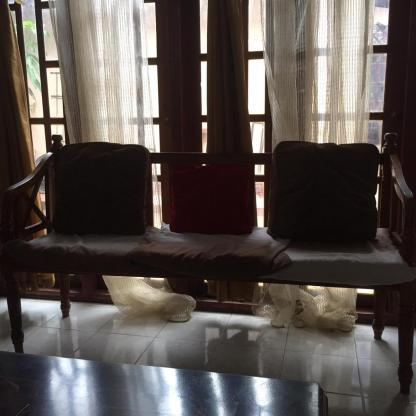Sofa: (5, 133, 414, 392)
